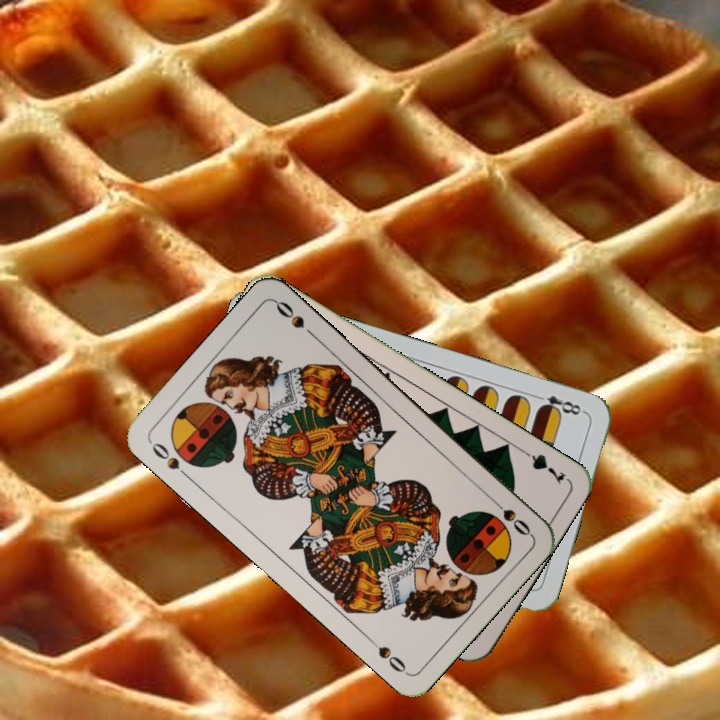E8: (530, 390, 588, 418)
G7: (516, 444, 569, 486)
SO: (486, 493, 533, 539), (146, 438, 193, 482)
